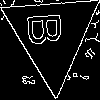B: (27, 10, 71, 47)
